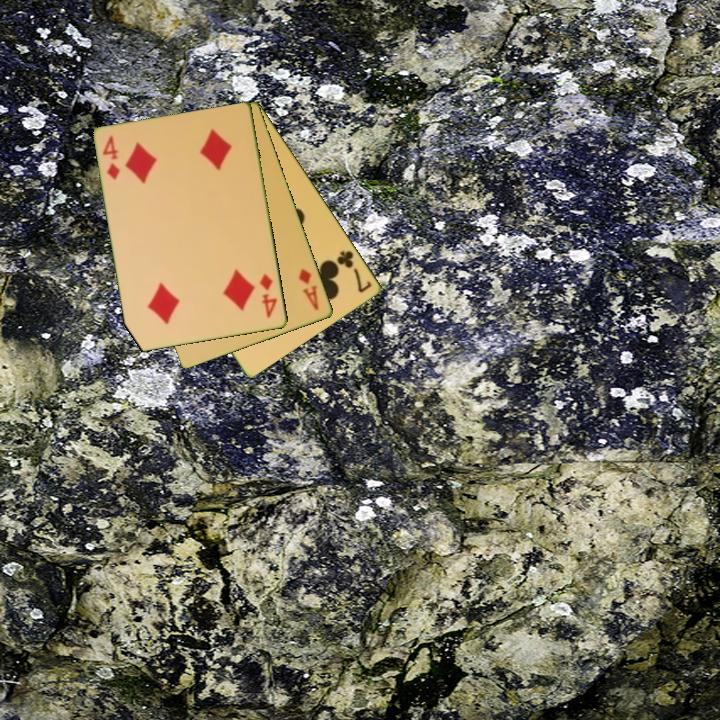4d: (256, 270, 280, 321), (99, 132, 123, 183)
7c: (333, 247, 375, 296)
Ad: (295, 265, 322, 313)
